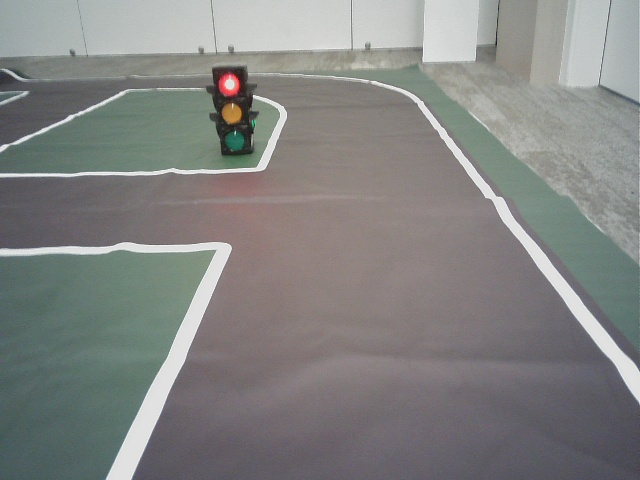red: (216, 71, 247, 154)
